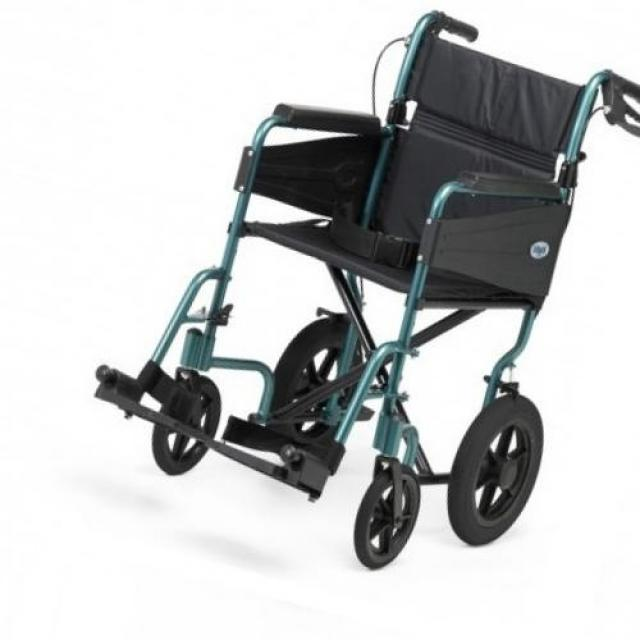wheelchair: (78, 0, 640, 577)
